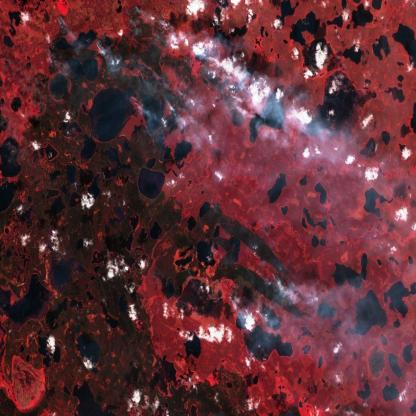fire: (34, 0, 248, 130), (212, 260, 309, 334), (329, 395, 361, 416)
